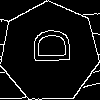D: (24, 27, 70, 65)
